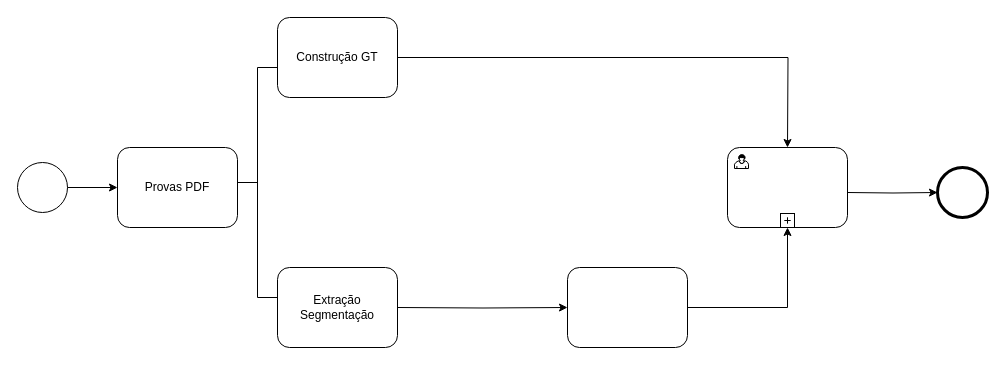
This 1005x365 diagram has some shape labels left out. The shapes that lost their labels are listed below. From the top down, each one's centre as x and y in pixels, then its label:
At [787,187]: "Avaliação da precisão".
At [627,307]: "Questões extraídas".
